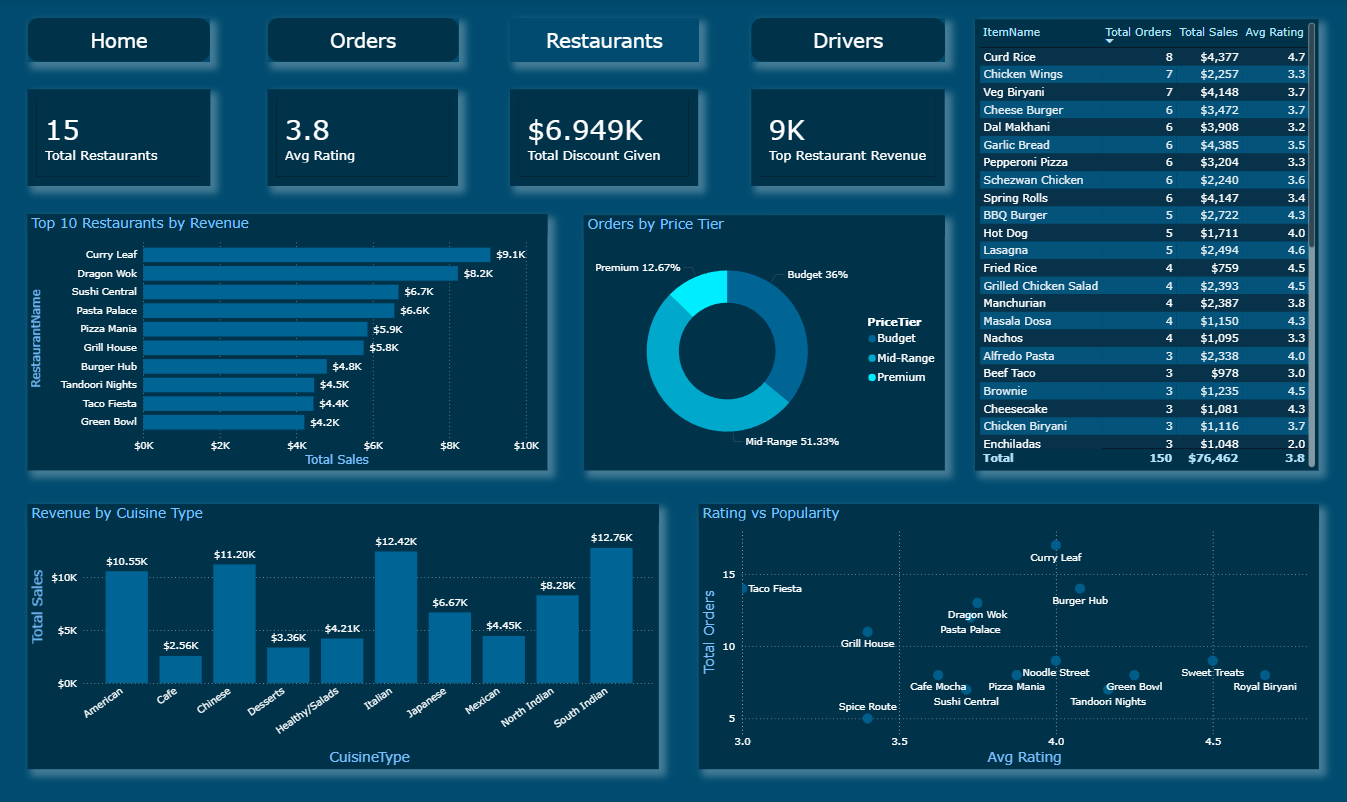

This screenshot's page, from the dashboard's own definition file:
{"tool":"powerbi","page":{"name":"Restaurants","canvas":[1850,1100],"ordinal":2},"visuals":[{"type":"actionButton","box":[44.4,27.3,249.1,59.7],"z":0},{"type":"actionButton","box":[371.9,27.3,261,59.7],"z":1000},{"type":"actionButton","box":[702.9,27.3,257.6,59.7],"z":2000},{"type":"actionButton","box":[1032.1,27.3,264.4,59.7],"z":3000},{"type":"cardVisual","fields":{"Data":["Orders.Total Restaurants"]},"box":[44.3,123.8,249.9,131.8],"z":4000},{"type":"cardVisual","fields":{"Data":["Orders.Avg Rating"]},"box":[371.2,123.8,260.2,131.8],"z":5000},{"type":"cardVisual","fields":{"Data":["Orders.Total Discount Given"]},"box":[703.3,123.8,256.8,131.8],"z":6000},{"type":"clusteredColumnChart","title":"Revenue by Cuisine Type","fields":{"Y":["Orders.Total Sales"],"Category":["Restaurants.CuisineType"]},"box":[44.4,691.5,861.5,361.7],"z":7000},{"type":"scatterChart","title":"Rating vs Popularity","fields":{"X":["Orders.Avg Rating"],"Y":["Orders.Total Orders"],"Category":["Restaurants.RestaurantName"]},"box":[960.5,691.5,846.2,361.7],"z":8000},{"type":"donutChart","title":" Orders by Price Tier","fields":{"Y":["Orders.Total Orders"],"Category":["Restaurants.PriceTier"]},"box":[803.5,296.8,493,348],"z":9000},{"type":"tableEx","fields":{"Values":["Orders.ItemName","Orders.Total Orders","Orders.Total Sales","Orders.Avg Rating"]},"box":[1337.5,29,469.1,615.9],"z":10000},{"type":"cardVisual","fields":{"Data":["Orders.Top Restaurant Revenue"]},"box":[1032,123.8,263.6,131.8],"z":11000},{"type":"barChart","title":"Top 10 Restaurants by Revenue","fields":{"Category":["Restaurants.RestaurantName"],"Y":["Orders.Total Sales"]},"box":[44.4,295.1,709.7,349.7],"z":12000}]}

Visuals, with their boxes in screenshot pixels (x1, y1, x2, y2), scaled from the page's 1850x1100 canvas onto the 1347x802 screenshot:
actionButton: bbox(32, 20, 214, 63)
actionButton: bbox(271, 20, 461, 63)
actionButton: bbox(512, 20, 699, 63)
actionButton: bbox(751, 20, 944, 63)
cardVisual - Orders.Total Restaurants: bbox(32, 90, 214, 186)
cardVisual - Orders.Avg Rating: bbox(270, 90, 460, 186)
cardVisual - Orders.Total Discount Given: bbox(512, 90, 699, 186)
"Revenue by Cuisine Type" clusteredColumnChart: bbox(32, 504, 660, 768)
"Rating vs Popularity" scatterChart: bbox(699, 504, 1315, 768)
" Orders by Price Tier" donutChart: bbox(585, 216, 944, 470)
tableEx - Orders.ItemName x Orders.Total Orders: bbox(974, 21, 1315, 470)
cardVisual - Orders.Top Restaurant Revenue: bbox(751, 90, 943, 186)
"Top 10 Restaurants by Revenue" barChart: bbox(32, 215, 549, 470)
